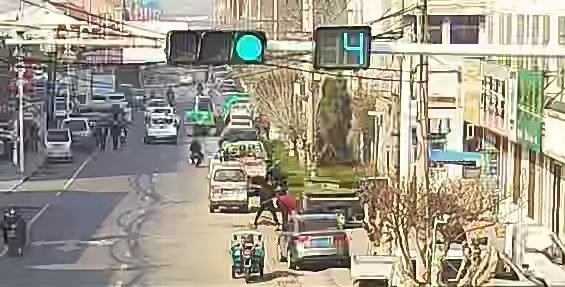green: (233, 32, 266, 63)
greentime: (341, 29, 369, 68)
